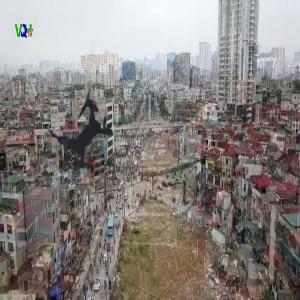drone: (11, 59, 159, 207)
